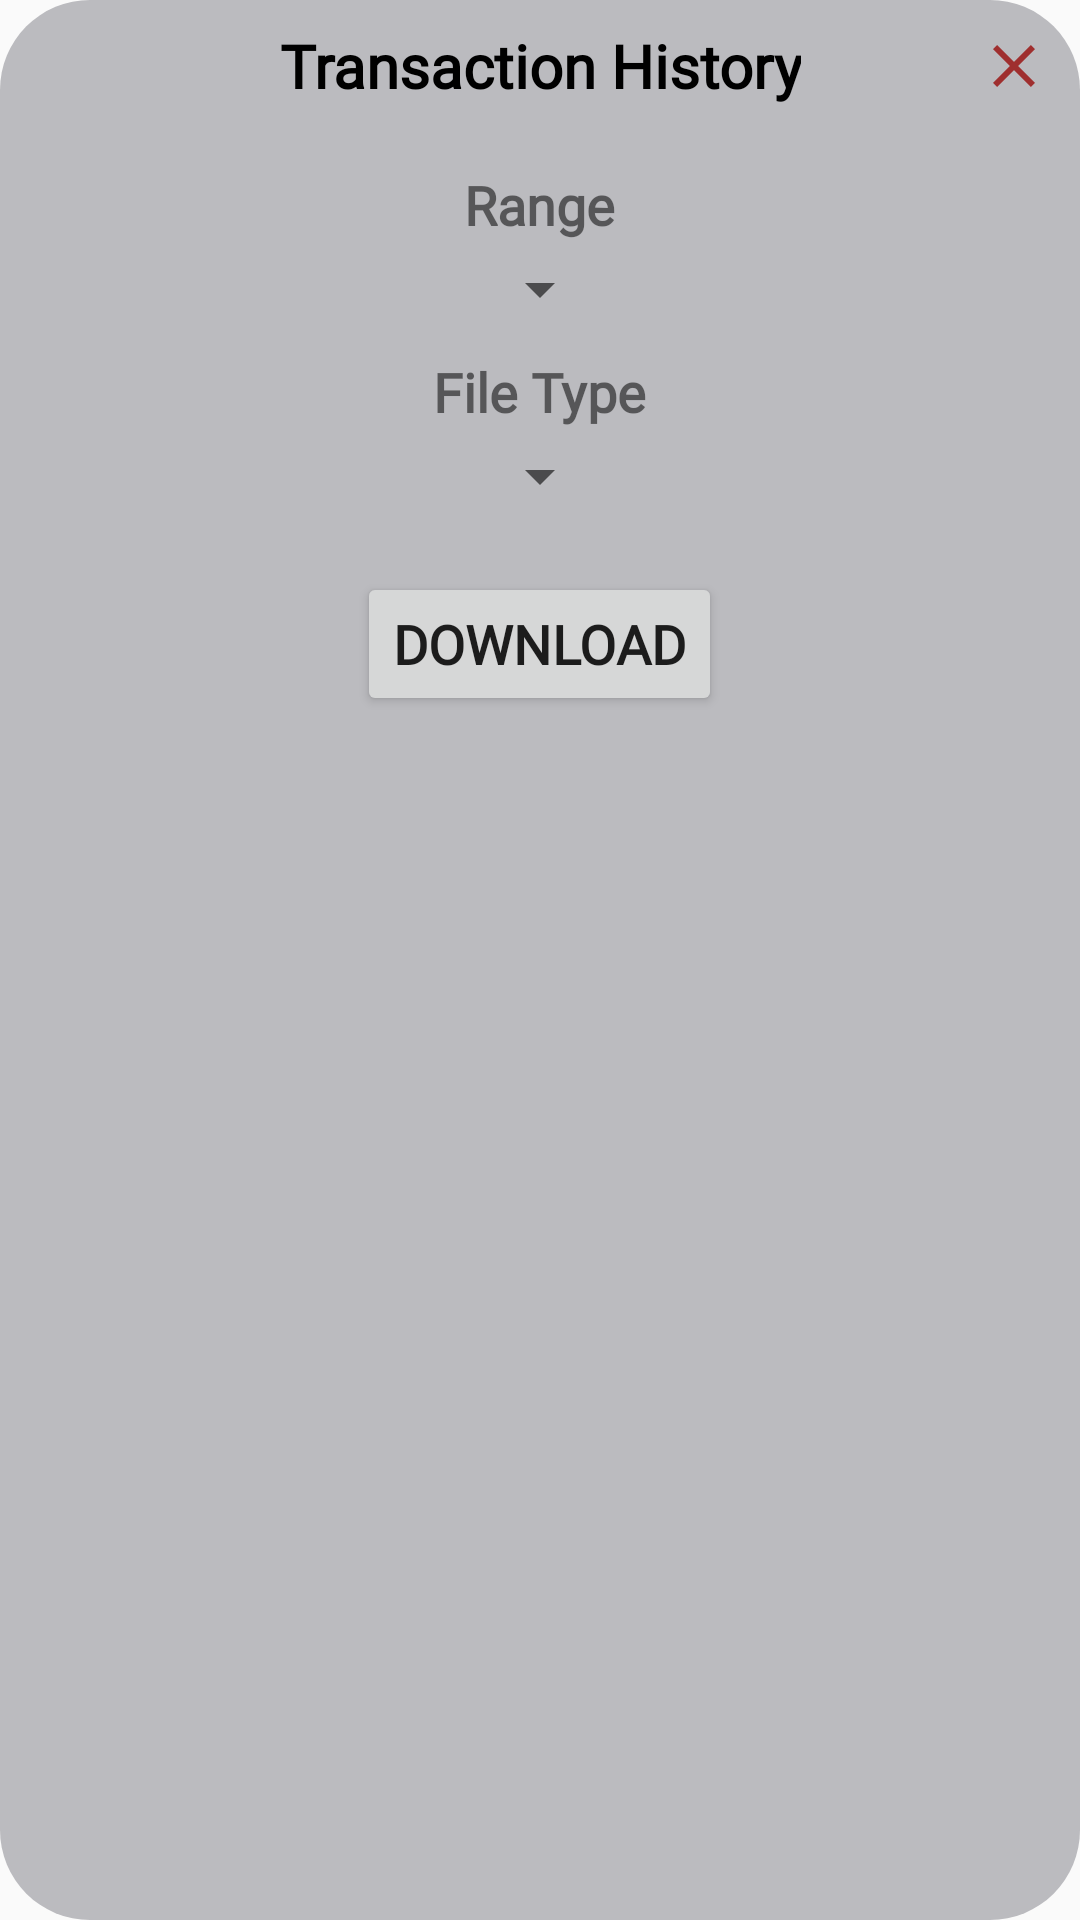

Icon bounding boxes for this 1080px×1920px phone screenshot, format (x1, y1, x2, y2):
close: (993, 45, 1035, 87)
